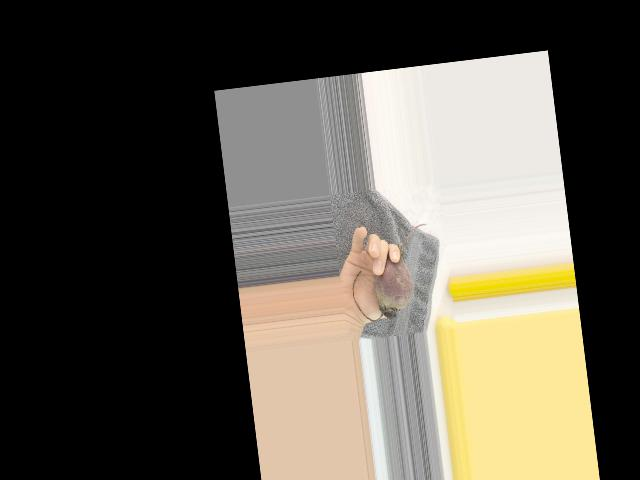beet: (345, 223, 437, 322)
